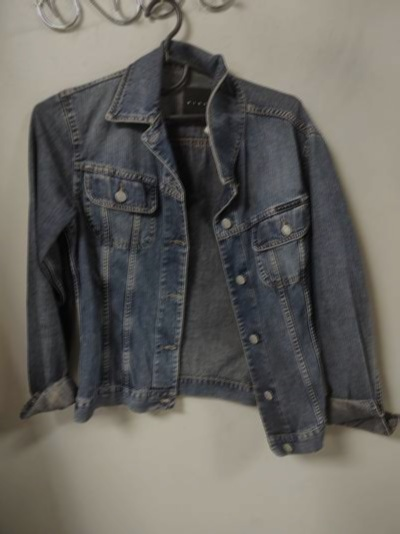Blazer: (18, 45, 384, 458)
